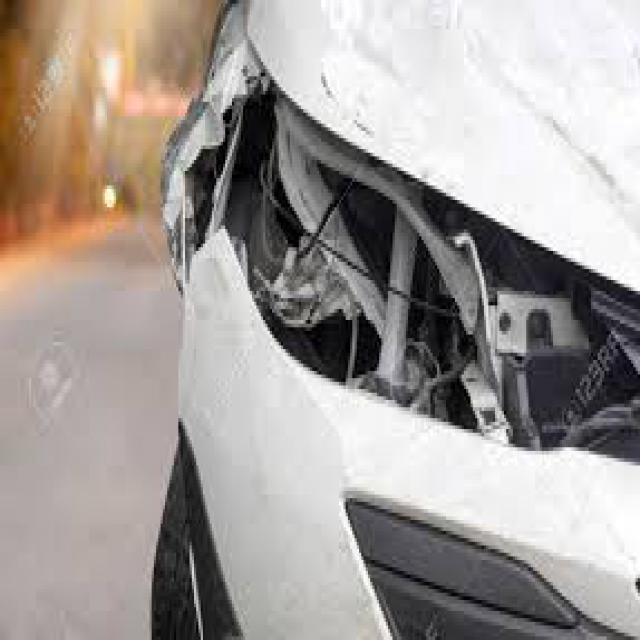Headlight-Damage: (187, 29, 638, 491)
